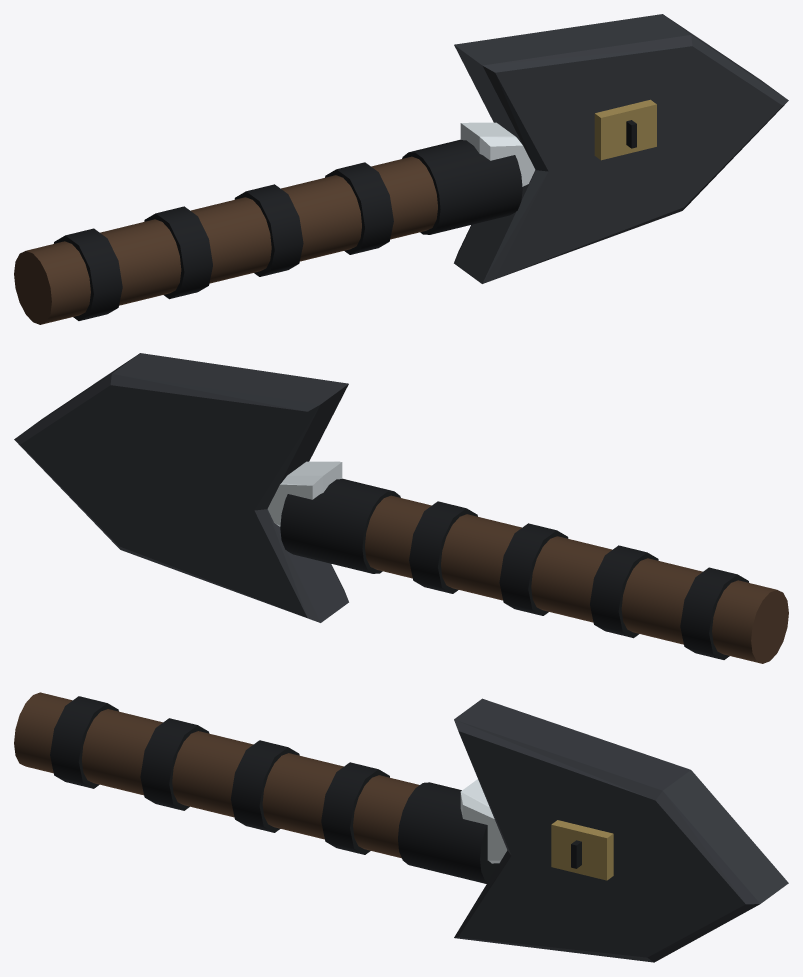
Rendered from fantasy-lab-lantern-hatchet-v1.glb.
The picture shows the model from 3 angles, top to bottom: view 1: azimuth 30°, elevation 25°; view 2: azimuth 150°, elevation 25°; view 3: azimuth 330°, elevation 25°; orthographic projection.
Visible parts, largest first — view 1: Lantern Hatchet; view 2: Lantern Hatchet; view 3: Lantern Hatchet.
Part boxes in pixels (<box>): Lantern Hatchet: <box>14,14,788,324</box>; Lantern Hatchet: <box>14,353,788,663</box>; Lantern Hatchet: <box>14,692,788,962</box>.
Bounding box in the file's own units: 1.81 × 0.5085 × 0.2203.
